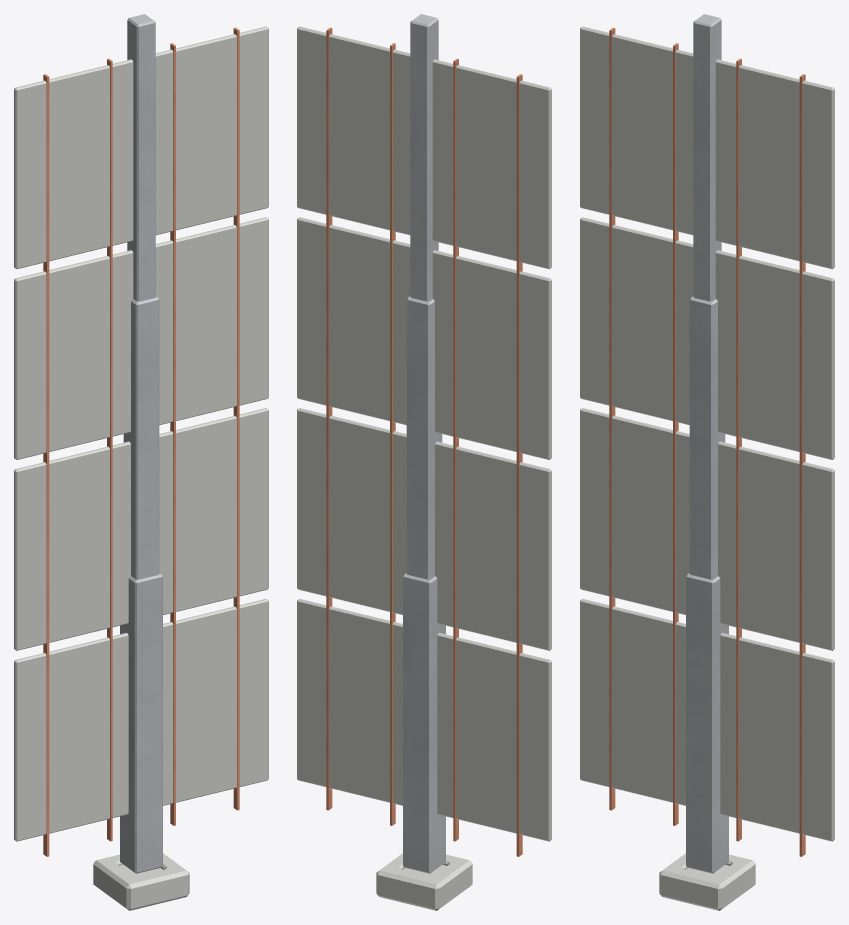
The model's file is ax_power_09_heat_pipe_boom_m_deployed.glb.
3 renders of one model, left to right at view 1: azimuth 30°, elevation 25°; view 2: azimuth 150°, elevation 25°; view 3: azimuth 330°, elevation 25°, orthographic.
Parts seen in each view (by area): view 1: panel_4, panel_3, panel_2, panel_1, boom, heat_pipes, mount_block; view 2: panel_4, panel_3, panel_2, panel_1, boom, heat_pipes, mount_block; view 3: panel_4, panel_3, panel_2, panel_1, boom, heat_pipes, mount_block.
Boxes of the visible parts, x1,y1,x2,y2 form: panel_4: (14,26,268,269); panel_3: (14,217,268,459); panel_2: (14,408,268,650); panel_1: (14,598,268,841); boom: (120,14,162,873); heat_pipes: (43,27,239,856); mount_block: (93,853,189,910); panel_4: (297,26,551,269); panel_3: (297,217,551,459); panel_2: (297,408,551,650); panel_1: (297,598,551,841); boom: (403,14,445,873); heat_pipes: (326,27,522,856); mount_block: (376,853,472,910); panel_4: (580,26,834,269); panel_3: (580,217,834,459); panel_2: (580,408,834,650); panel_1: (580,598,834,841); boom: (686,14,728,873); heat_pipes: (609,27,805,856); mount_block: (659,853,755,910).
Size of the model in its own units: 1.6 by 5.26 by 0.4.
Materials: 3 (2 with a texture image).
